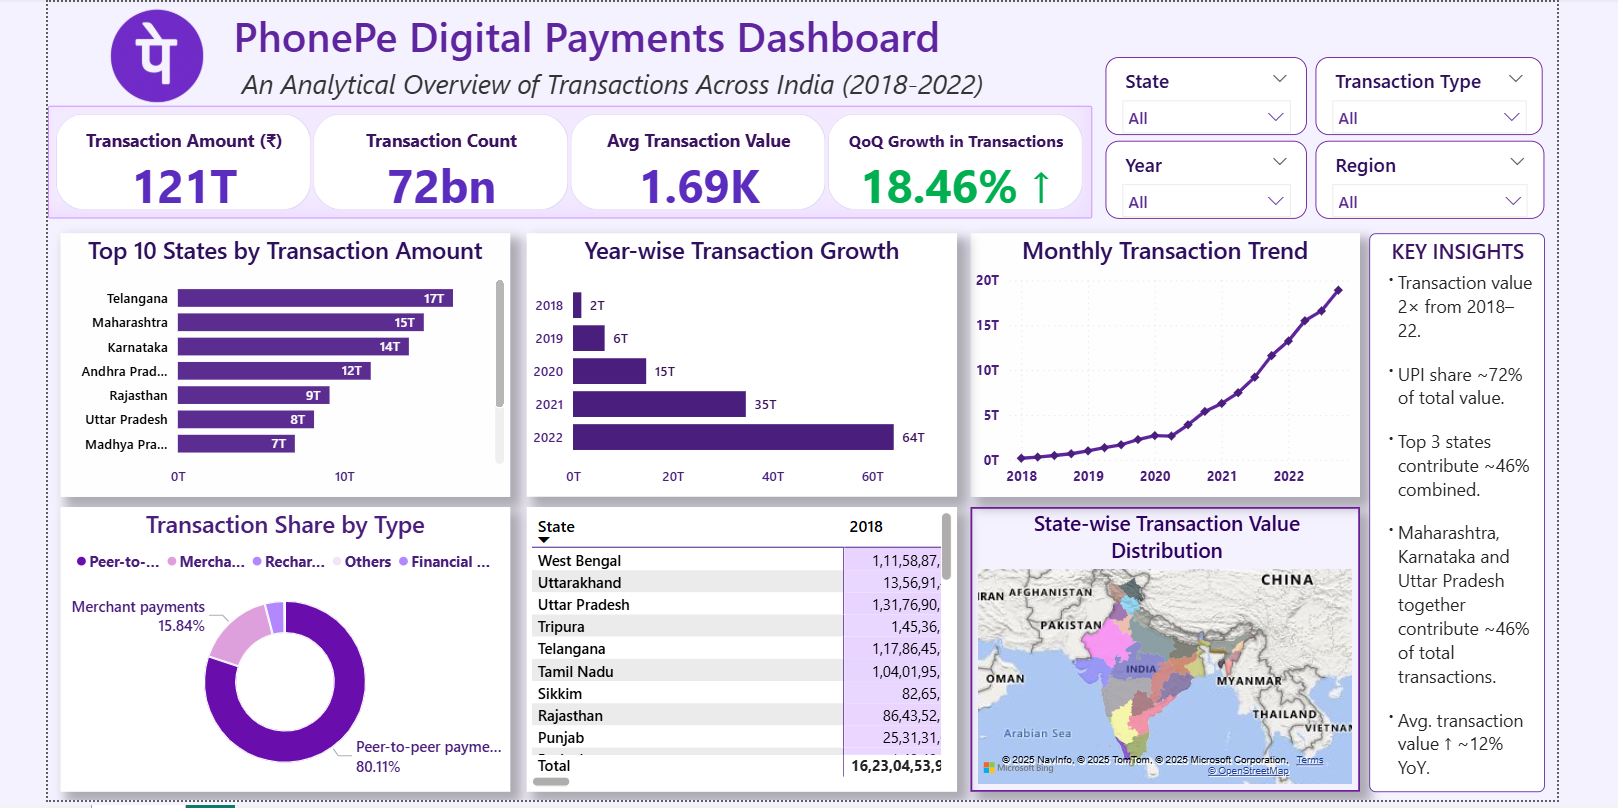

This screenshot's page, from the dashboard's own definition file:
{"tool":"powerbi","page":{"name":"Page 1","canvas":[1360,720],"ordinal":0},"visuals":[{"type":"image","box":[35.5,0,127.2,97.8],"z":0},{"type":"textbox","box":[162.6,0,695.8,97.8],"z":1000},{"type":"cardVisual","fields":{"Data":["Phonepay dataset.Total_Transaction_Amount","Phonepay dataset.Total_Transaction_Count","Phonepay dataset.Average Transaction Value","Phonepay dataset.Growth Card Display"]},"box":[0,93.9,941.4,101.3],"z":2000},{"type":"lineChart","title":"Monthly Transaction Trend","fields":{"Y":["Phonepay dataset.Total_Transaction_Amount"],"Category":["Phonepay dataset.Quarter_Start_Date.Variation.Date Hierarchy.Year","Phonepay dataset.Quarter_Start_Date.Variation.Date Hierarchy.Month"]},"box":[831.5,208.8,350.9,237.2],"z":3000},{"type":"clusteredBarChart","title":"Top 10 States by Transaction Amount","fields":{"Category":["Phonepay dataset.State"],"Y":["Phonepay dataset.Total_Transaction_Amount"]},"box":[11.1,208.8,405.2,237.2],"z":4000},{"type":"donutChart","title":"Transaction Share by Type","fields":{"Category":["Phonepay dataset.Transaction_type"],"Y":["Sum(Phonepay dataset.Transaction_amount)"]},"box":[11.1,455.9,405.2,257],"z":5000},{"type":"barChart","title":"Year-wise Transaction Growth","fields":{"Category":["Phonepay dataset.Quarter_Start_Date.Variation.Date Hierarchy.Year"],"Y":["Sum(Phonepay dataset.Transaction_amount)"]},"box":[431.2,208.8,387.9,237.2],"z":6000},{"type":"pivotTable","fields":{"Rows":["Phonepay dataset.State"],"Values":["Sum(Phonepay dataset.Transaction_amount)"],"Columns":["Phonepay dataset.Quarter_Start_Date.Variation.Date Hierarchy.Year"]},"box":[431.2,455.9,387.9,257],"z":7000},{"type":"slicer","fields":{"Values":["Phonepay dataset.Year"]},"box":[953.8,124.8,181.6,70.4],"z":8000},{"type":"slicer","fields":{"Values":["Phonepay dataset.State"]},"box":[953.8,49.4,181.6,70.4],"z":9000},{"type":"slicer","fields":{"Values":["Phonepay dataset.Transaction_type"]},"box":[1142.8,49.4,205.1,70.4],"z":10000},{"type":"slicer","fields":{"Values":["Phonepay dataset.Region"]},"box":[1142.8,124.8,206.3,70.4],"z":11000},{"type":"filledMap","title":"State-wise Transaction Value Distribution","fields":{"Category":["Phonepay dataset.State"],"Series":["Phonepay dataset.Transaction_amount"]},"box":[831.5,455.9,350.9,257],"z":12000},{"type":"textbox","title":"KEY INSIGHTS","box":[1191,208.8,158.1,504.1],"z":12001}]}

Visuals, with their boxes in screenshot pixels (x1, y1, x2, y2):
image: box=[86, 25, 227, 134]
textbox: box=[227, 25, 998, 134]
cardVisual - Phonepay dataset.Total_Transaction_Amount x Phonepay dataset.Total_Transaction_Count: box=[46, 129, 1089, 242]
"Monthly Transaction Trend" lineChart: box=[968, 257, 1357, 519]
"Top 10 States by Transaction Amount" clusteredBarChart: box=[59, 257, 508, 519]
"Transaction Share by Type" donutChart: box=[59, 530, 508, 807]
"Year-wise Transaction Growth" barChart: box=[524, 257, 954, 519]
pivotTable - Phonepay dataset.State x Sum(Phonepay dataset.Transaction_amount): box=[524, 530, 954, 807]
slicer - Phonepay dataset.Year: box=[1103, 164, 1304, 242]
slicer - Phonepay dataset.State: box=[1103, 80, 1304, 158]
slicer - Phonepay dataset.Transaction_type: box=[1313, 80, 1540, 158]
slicer - Phonepay dataset.Region: box=[1313, 164, 1541, 242]
"State-wise Transaction Value Distribution" filledMap: box=[968, 530, 1357, 807]
"KEY INSIGHTS" textbox: box=[1366, 257, 1541, 807]
